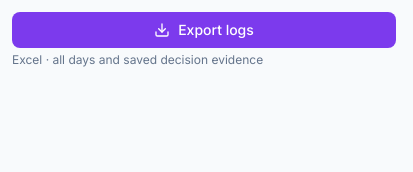
Export logs › shows worker failure and allows a new export
Click the button "Export logs" at (204, 30), box [12,12,396,48]
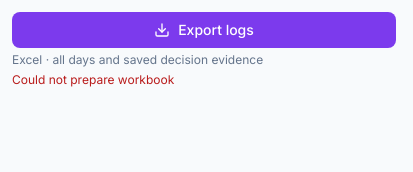
Expected: the message "Could not prepare workbook" is shown, [12,72,174,87]
